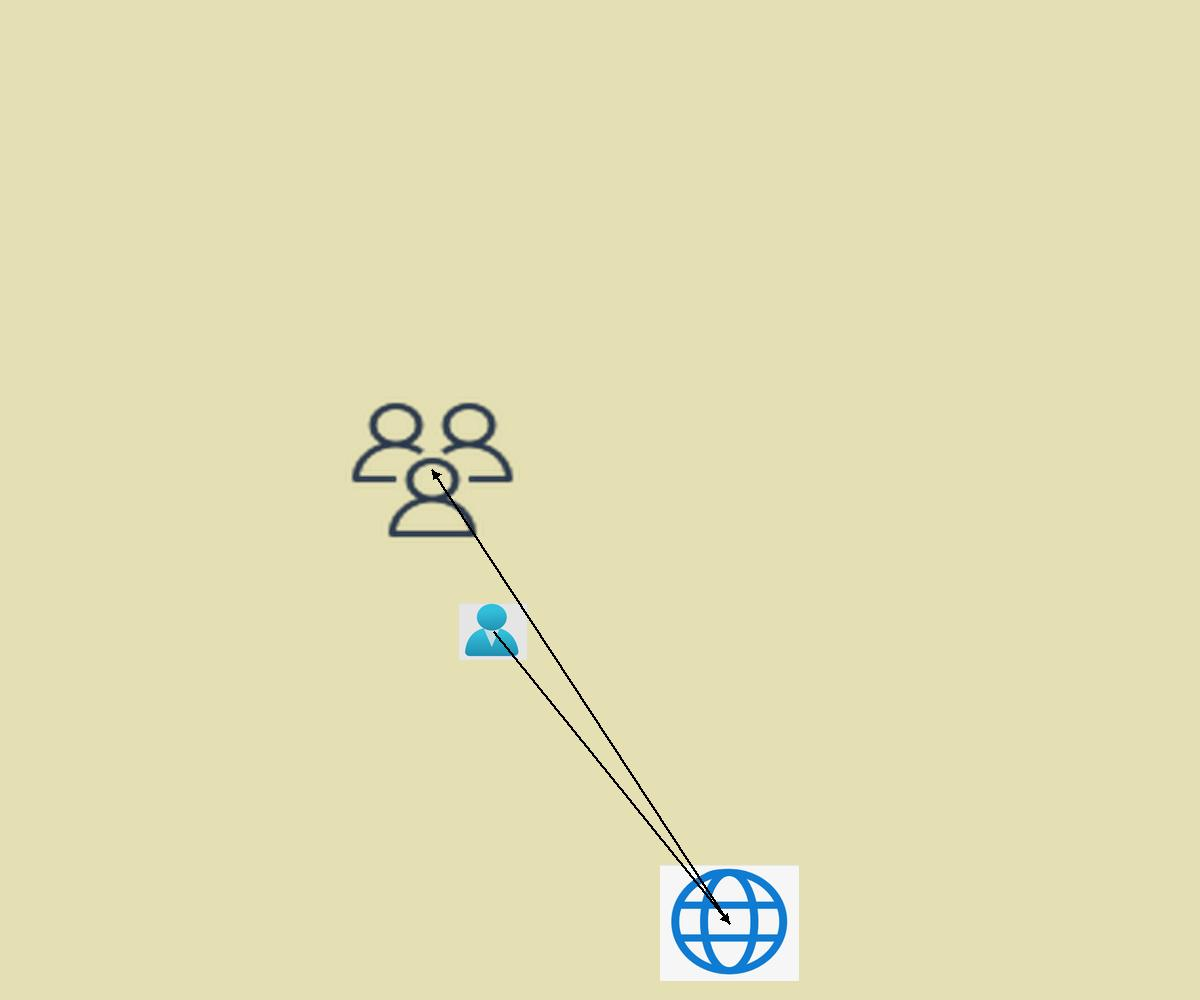AWS-Res_Users: (345, 397, 520, 543)
Azure_http: (660, 865, 799, 981)
Azure_users: (459, 603, 527, 660)
